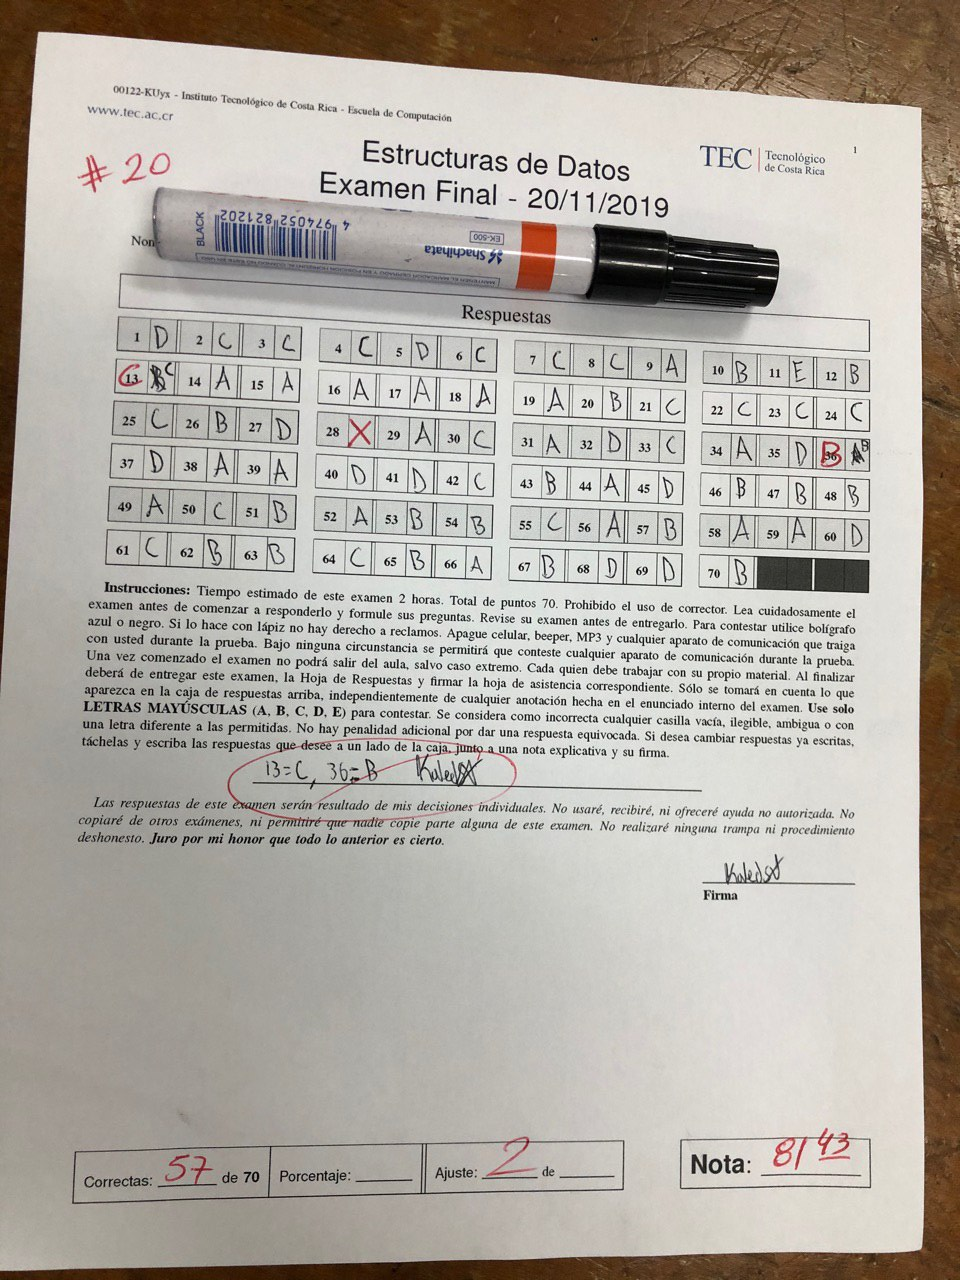RESPUESTA: (119, 363, 172, 392), (237, 539, 289, 568), (315, 543, 367, 572), (174, 537, 226, 566), (320, 418, 374, 445), (437, 549, 488, 577), (377, 547, 428, 574), (704, 476, 752, 504), (818, 480, 866, 508), (573, 470, 621, 498), (572, 512, 620, 540), (704, 516, 752, 544), (818, 521, 866, 549), (120, 323, 171, 349), (184, 325, 235, 351), (245, 329, 296, 355), (322, 333, 373, 359), (442, 341, 493, 367), (182, 366, 233, 392), (244, 370, 295, 396), (320, 375, 371, 401), (441, 382, 492, 408), (118, 406, 169, 432), (242, 414, 293, 440), (114, 449, 165, 475), (241, 456, 292, 482), (318, 460, 369, 486), (439, 466, 490, 492), (113, 492, 164, 518), (239, 498, 290, 524), (318, 502, 369, 528), (437, 509, 488, 535), (110, 534, 161, 560), (575, 348, 626, 374), (704, 356, 755, 382), (816, 361, 867, 387), (574, 389, 625, 415), (705, 396, 756, 422), (818, 401, 869, 427), (761, 479, 809, 507), (631, 473, 679, 501), (515, 468, 563, 496), (514, 510, 562, 538), (631, 514, 679, 542), (761, 518, 809, 546), (383, 338, 434, 364), (381, 378, 432, 404), (179, 409, 230, 435), (381, 421, 432, 447), (179, 452, 230, 478), (379, 464, 430, 490), (177, 496, 228, 522), (377, 505, 428, 531), (517, 346, 568, 372), (632, 351, 683, 377), (761, 358, 812, 384), (515, 387, 566, 413), (632, 392, 683, 418), (761, 398, 812, 424), (571, 553, 619, 581), (703, 558, 751, 586), (820, 440, 868, 468), (441, 425, 492, 451), (573, 430, 624, 456), (704, 435, 755, 461), (761, 438, 809, 466), (512, 551, 560, 579), (630, 555, 678, 583), (515, 428, 566, 454), (631, 432, 682, 458)
